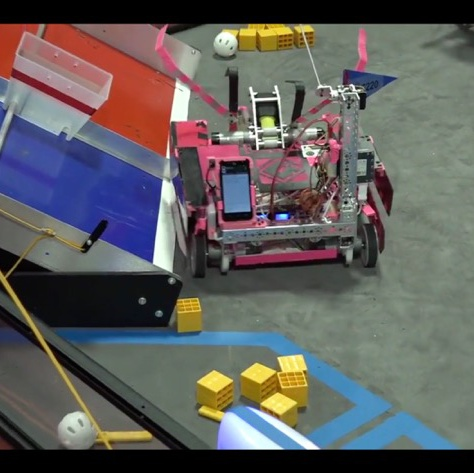robot: (174, 49, 401, 283)
